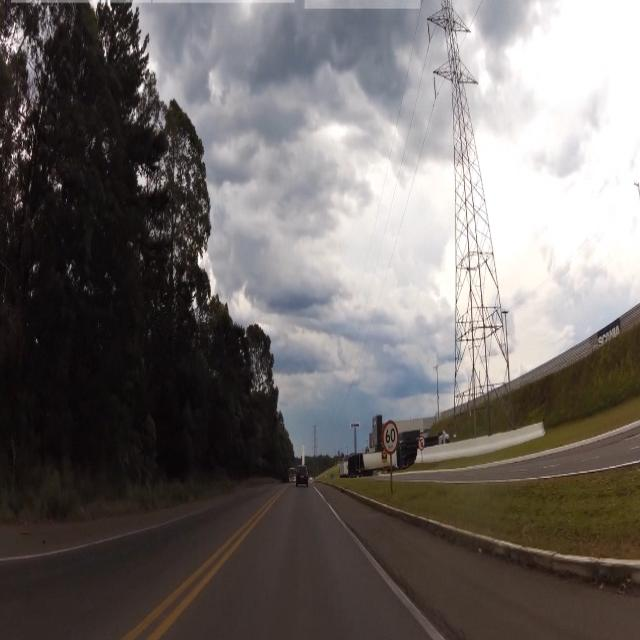R-19: (382, 422, 398, 458)
